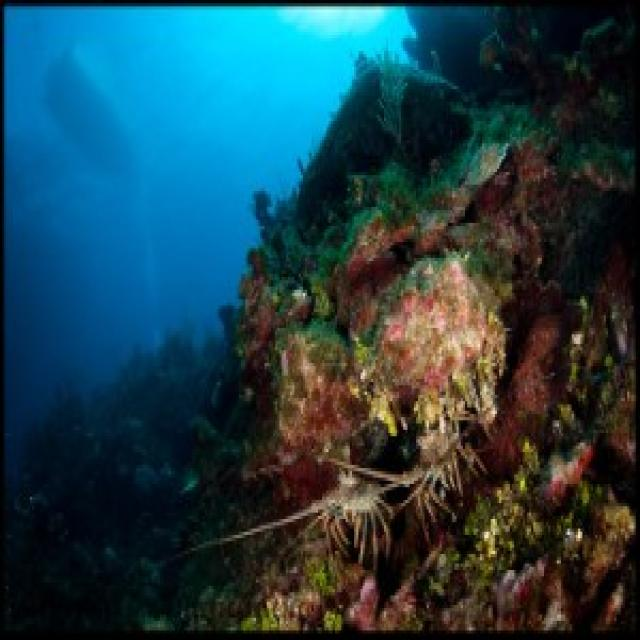lobsters: (397, 358, 570, 536), (281, 463, 420, 590)
